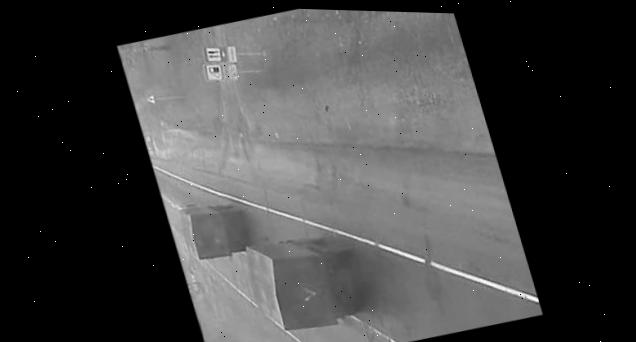truck: (235, 222, 369, 342), (170, 189, 259, 271)
